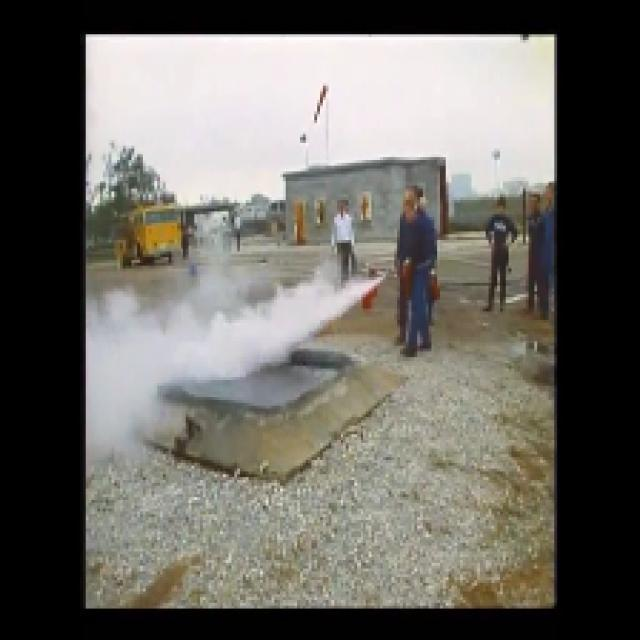smoke: (96, 290, 194, 416)
